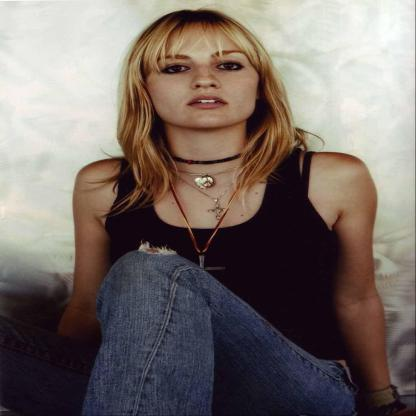long-hair: (106, 129, 312, 164)
